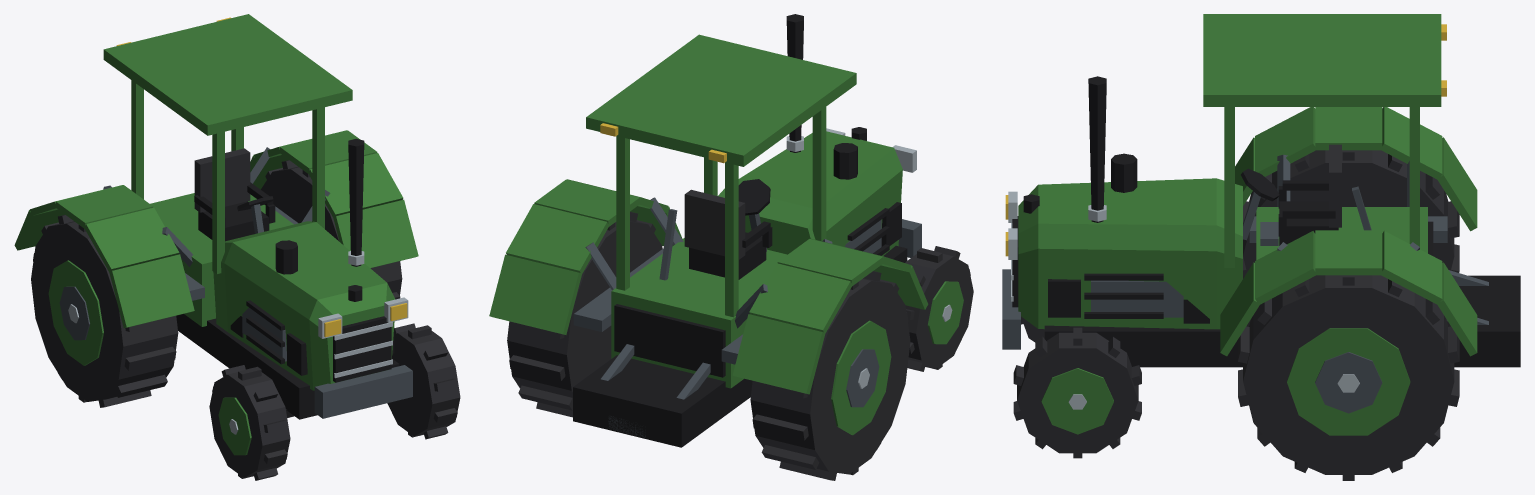
File: GV_Tractor_01.glb
3 views of the same model, side by side, from view 1: azimuth 30°, elevation 25°; view 2: azimuth 150°, elevation 25°; view 3: azimuth 270°, elevation 25° (orthographic). The views are drawn at different scales.
Visible parts, largest first — view 1: GV_Tractor_01, Wheel_RR, Wheel_FR, Wheel_FL, Engine_R, Wheel_RL; view 2: GV_Tractor_01, Wheel_RR, Wheel_RL, Wheel_FR, Engine_R; view 3: GV_Tractor_01, Wheel_RL, Wheel_FL, Engine_L, Wheel_RR.
Part boxes in pixels (x1,y1,x2,y2): GV_Tractor_01: (14,14,418,419); Wheel_RR: (31,215,178,407); Wheel_FR: (209,365,290,480); Wheel_FL: (387,323,460,439); Engine_R: (213,262,313,390); Wheel_RL: (261,160,402,299); GV_Tractor_01: (489,14,928,447); Wheel_RR: (750,271,910,480); Wheel_RL: (507,211,662,417); Wheel_FR: (905,246,973,371); Engine_R: (826,169,902,255); GV_Tractor_01: (1002,14,1520,367); Wheel_RL: (1238,275,1459,480); Wheel_FL: (1013,327,1141,458); Engine_L: (1038,248,1242,329); Wheel_RR: (1243,150,1459,275).
Bounding box in the file's own units: 2.92 × 2.93 × 3.92.
Materials: 1 (1 with a texture image).
